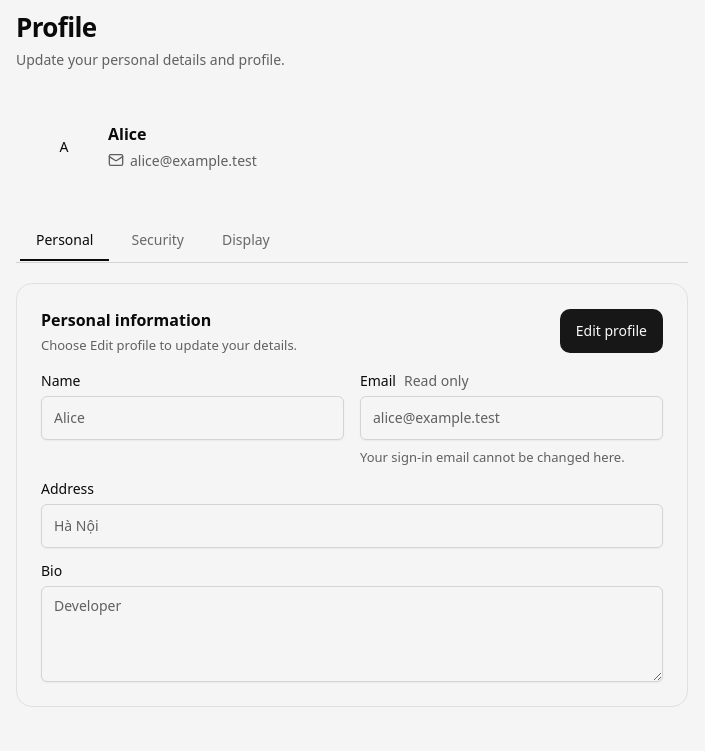
Test: submits profile by Enter only once, shows failures inline and omits unsupported settings
The image size is (705, 751).
Click the button "Edit profile".
click(611, 331)  # box [560,309,663,353]
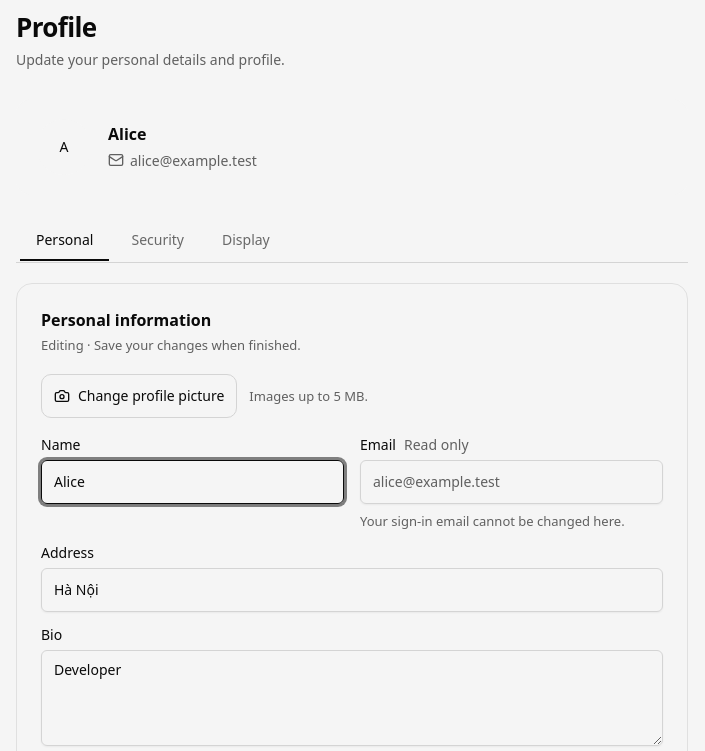
Type " draft" into the field showing "Alice".
click(192, 482); type(" draft")  # box [41,460,344,504]
Then press Enter
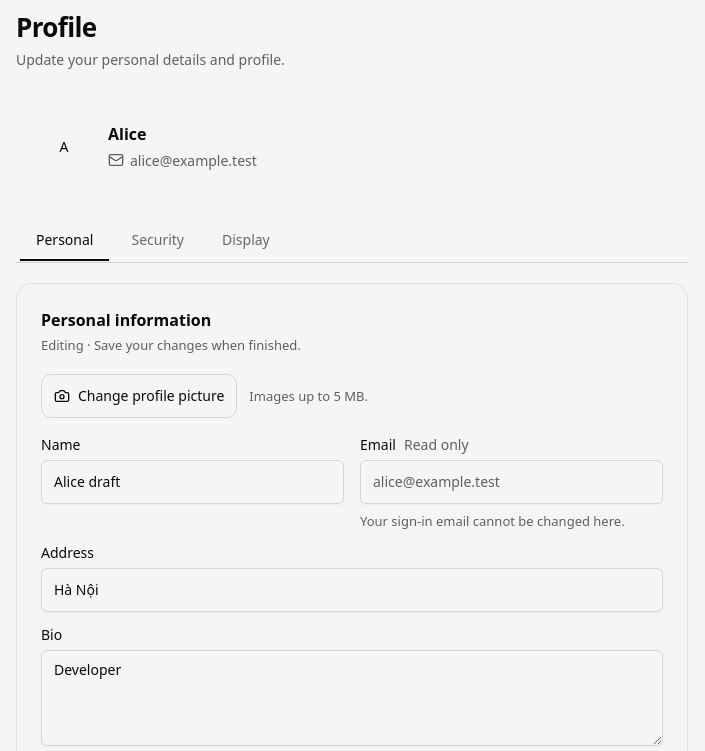
Expected: the field showing "Alice draft" is shown, [41,460,344,504]
